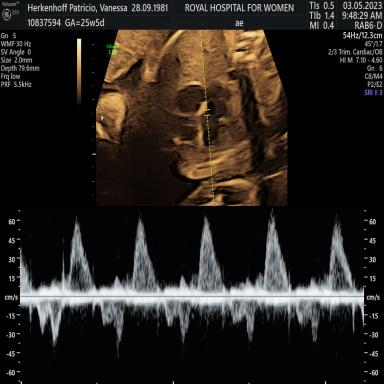Ultrasound-Waves: (27, 209, 363, 384)
